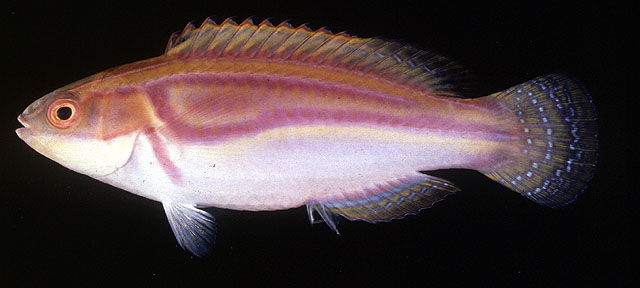fish: (16, 17, 599, 256)
